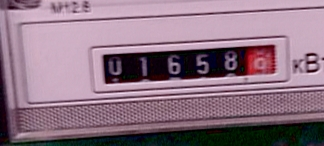0: (108, 52, 126, 75)
1: (138, 51, 154, 76)
5: (196, 49, 214, 74)
6: (167, 50, 187, 75)
8: (224, 47, 242, 70)
9: (253, 53, 271, 75)
screen: (88, 26, 298, 99)
